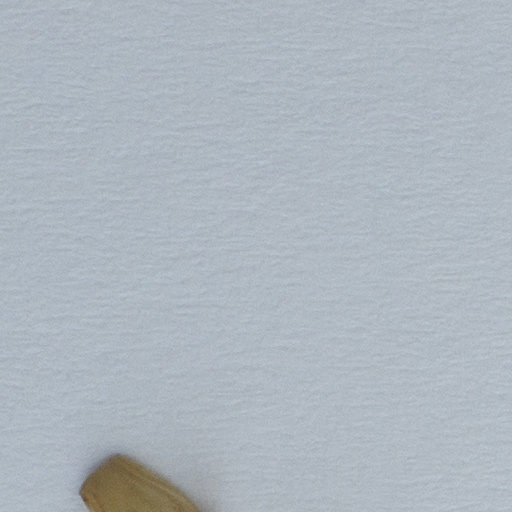Peel-poly: (77, 457, 204, 511)
